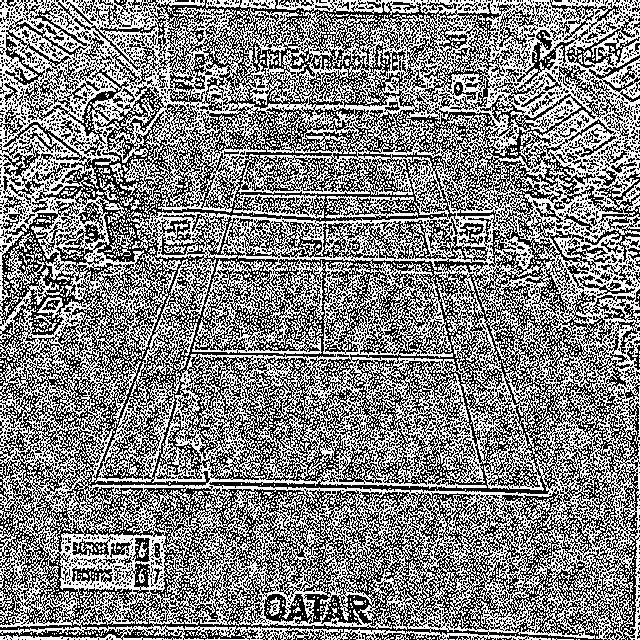left side: (93, 152, 249, 484), (403, 155, 546, 492)
player: (169, 366, 212, 484), (332, 104, 344, 146)
